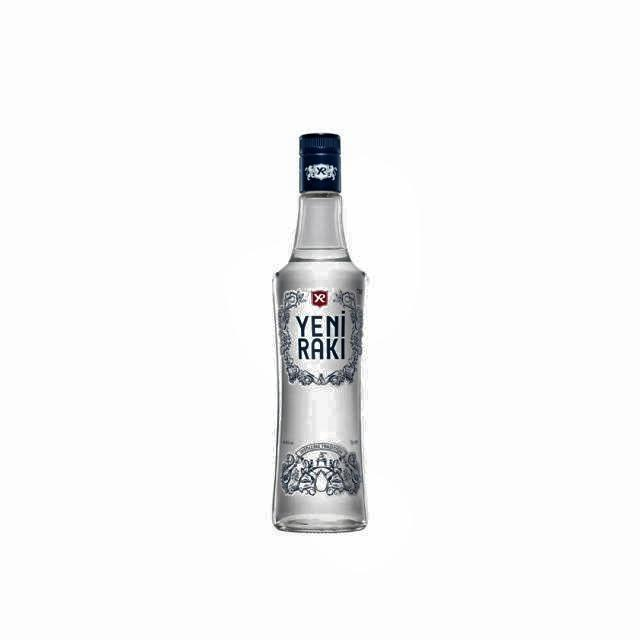glass: (271, 133, 370, 536)
